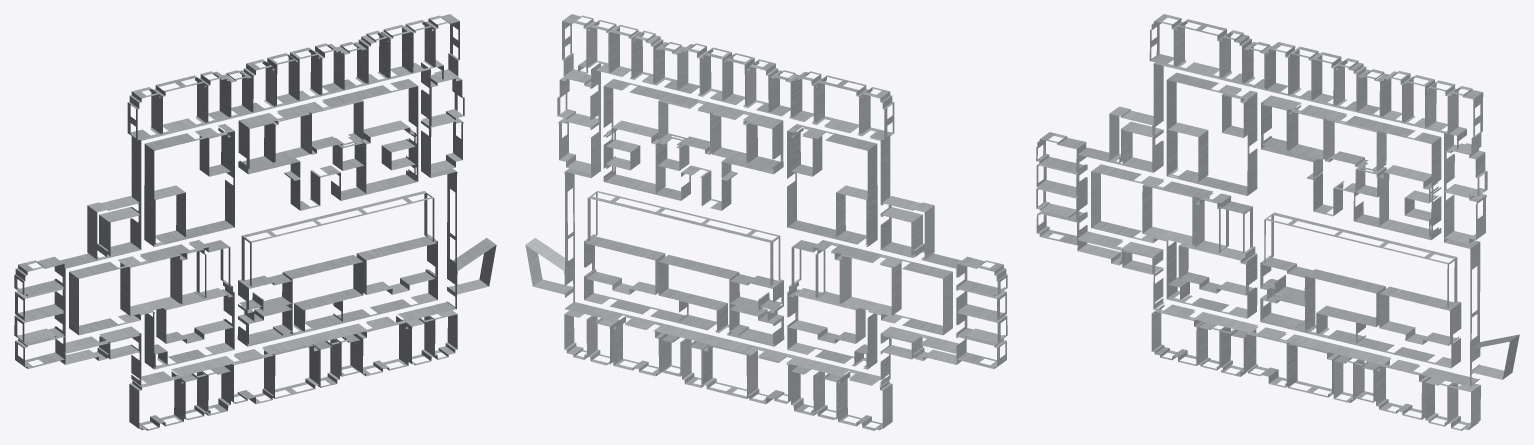
File: wall.obj
3 renders of one model, left to right at view 1: azimuth 30°, elevation 25°; view 2: azimuth 150°, elevation 25°; view 3: azimuth 330°, elevation 25°, orthographic.
Parts seen in each view (by area): view 1: area5_wall; view 2: area5_wall; view 3: area5_wall.
Boxes of the visible parts, x1,y1,x2,y2 form: area5_wall: [14, 14, 496, 430]; area5_wall: [525, 14, 1007, 430]; area5_wall: [1036, 14, 1519, 430].
Bounding box in the file's own units: 66.36 × 44.92 × 2.4.
1 material, 1 textured.
